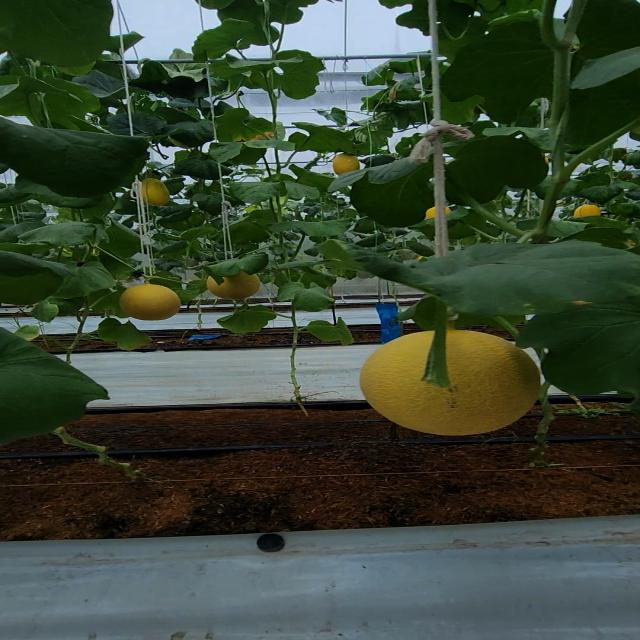Melon: (358, 323, 552, 438)
